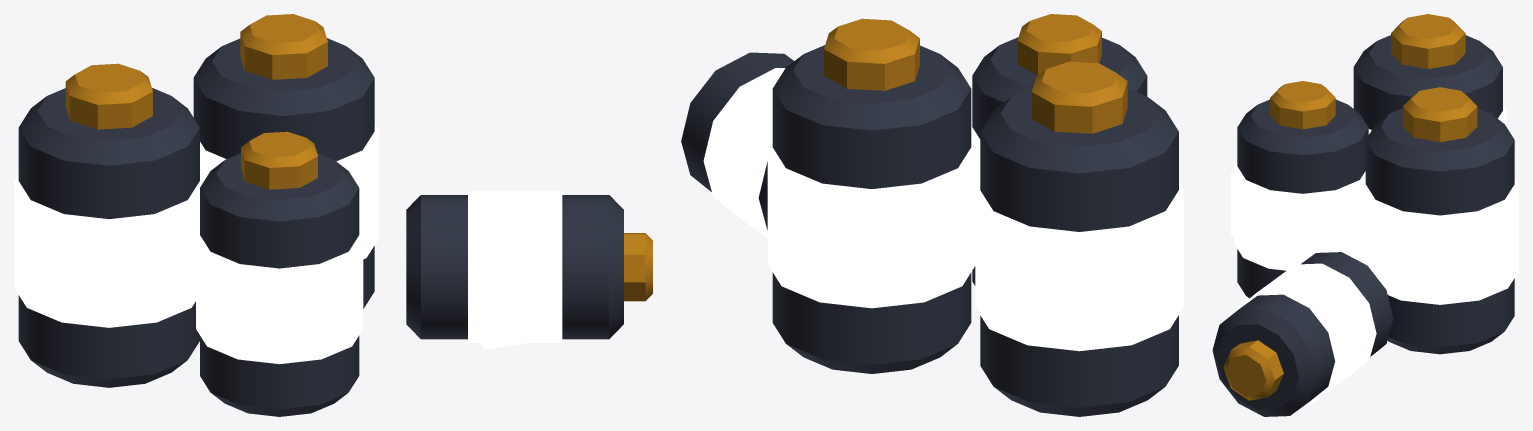
File: p_pile_cells.glb
The picture shows the model from 3 angles, left to right: view 1: azimuth 30°, elevation 25°; view 2: azimuth 150°, elevation 25°; view 3: azimuth 270°, elevation 25°; orthographic projection. The views are drawn at different scales.
Parts seen in each view (by area): view 1: body, cell_glow; view 2: body, cell_glow; view 3: body, cell_glow.
Part boxes in pixels (x1=…): body: x1=18, y1=14, x2=652, y2=416; cell_glow: x1=14, y1=124, x2=562, y2=364; body: x1=681, y1=14, x2=1178, y2=416; cell_glow: x1=703, y1=68, x2=1183, y2=351; body: x1=1212, y1=14, x2=1514, y2=416; cell_glow: x1=1230, y1=105, x2=1518, y2=406.
Bounding box in the file's own units: 1.68 × 0.87 × 1.03.
